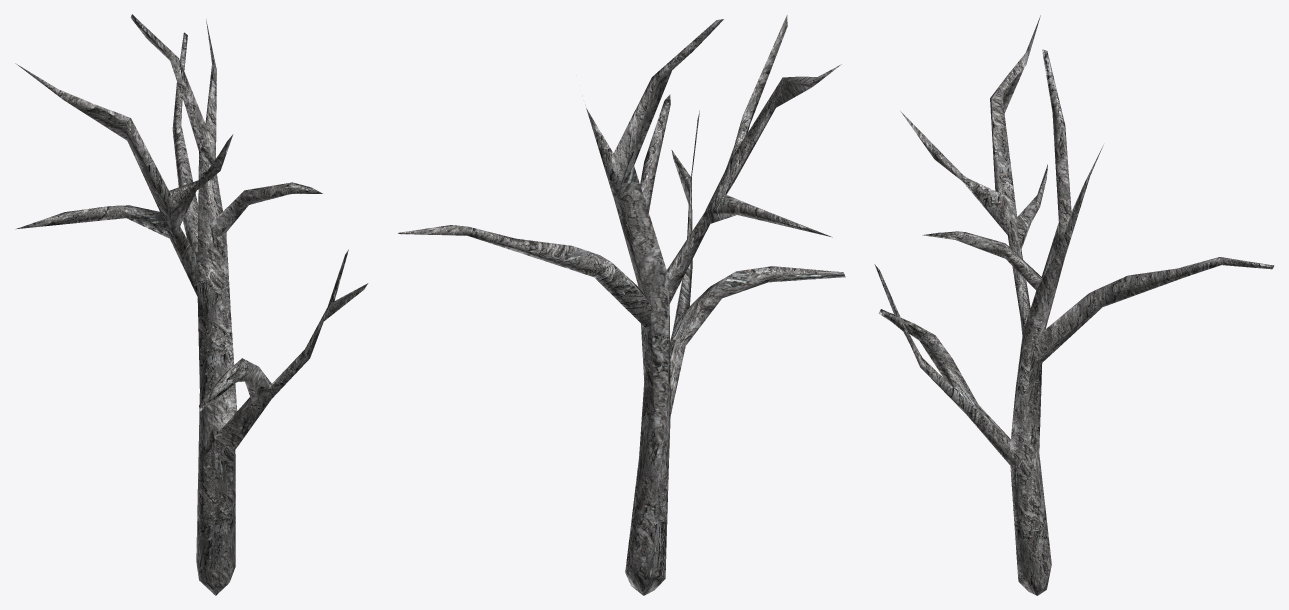
Rendered from tree_dead.obj.
The picture shows the model from 3 angles, left to right: view 1: azimuth 30°, elevation 25°; view 2: azimuth 150°, elevation 25°; view 3: azimuth 270°, elevation 25°; orthographic projection. The views are drawn at different scales.
Visible parts, largest first — view 1: Volume1; view 2: Volume1; view 3: Volume1.
Part boxes in pixels (left/top/right/bottom): Volume1: left=15, top=14, right=368, bottom=595; Volume1: left=398, top=15, right=845, bottom=595; Volume1: left=874, top=15, right=1274, bottom=595.
Size of the model in its own units: 3.16 by 5.81 by 4.13.
1 material, 1 textured.
